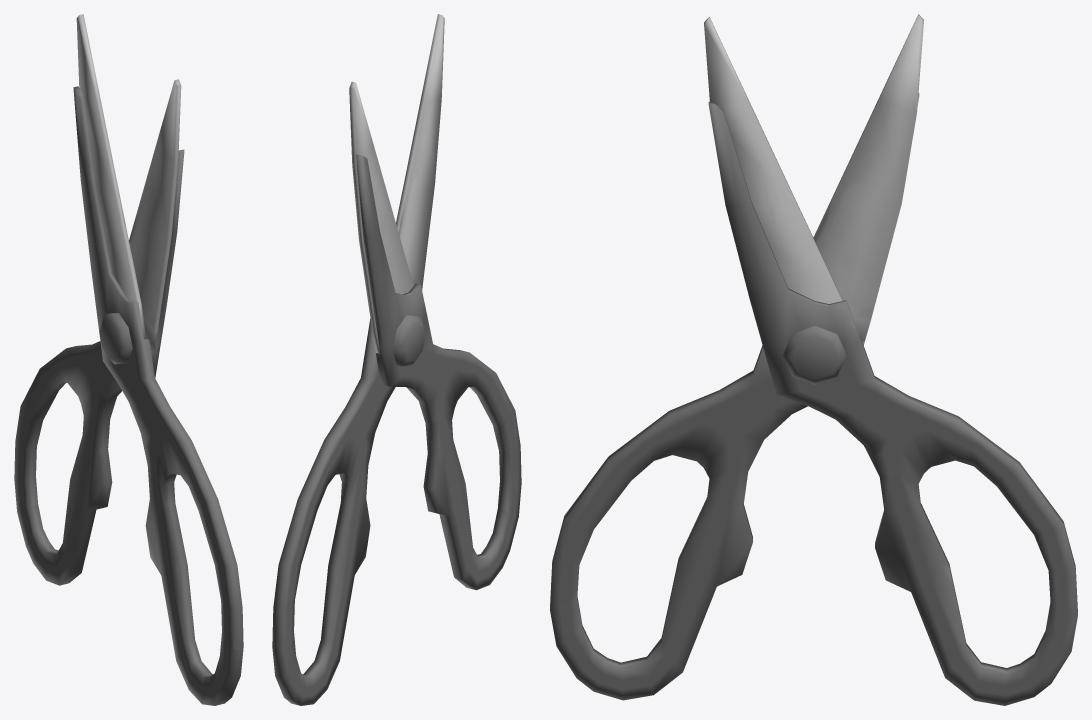
Rendered from scissors2.fbx.
3 renders of one model, left to right at view 1: azimuth 30°, elevation 25°; view 2: azimuth 150°, elevation 25°; view 3: azimuth 270°, elevation 25°, orthographic. The views are drawn at different scales.
Parts seen in each view (by area): view 1: scissor2; view 2: scissor2; view 3: scissor2.
Part boxes in pixels (box(x1,y1,x2,y2)): scissor2: box(14, 14, 243, 705); scissor2: box(272, 14, 521, 705); scissor2: box(550, 14, 1077, 705).
Bounding box in the file's own units: 35.13 × 557 × 389.
